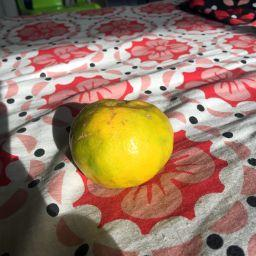Ripe: (71, 100, 171, 189)
